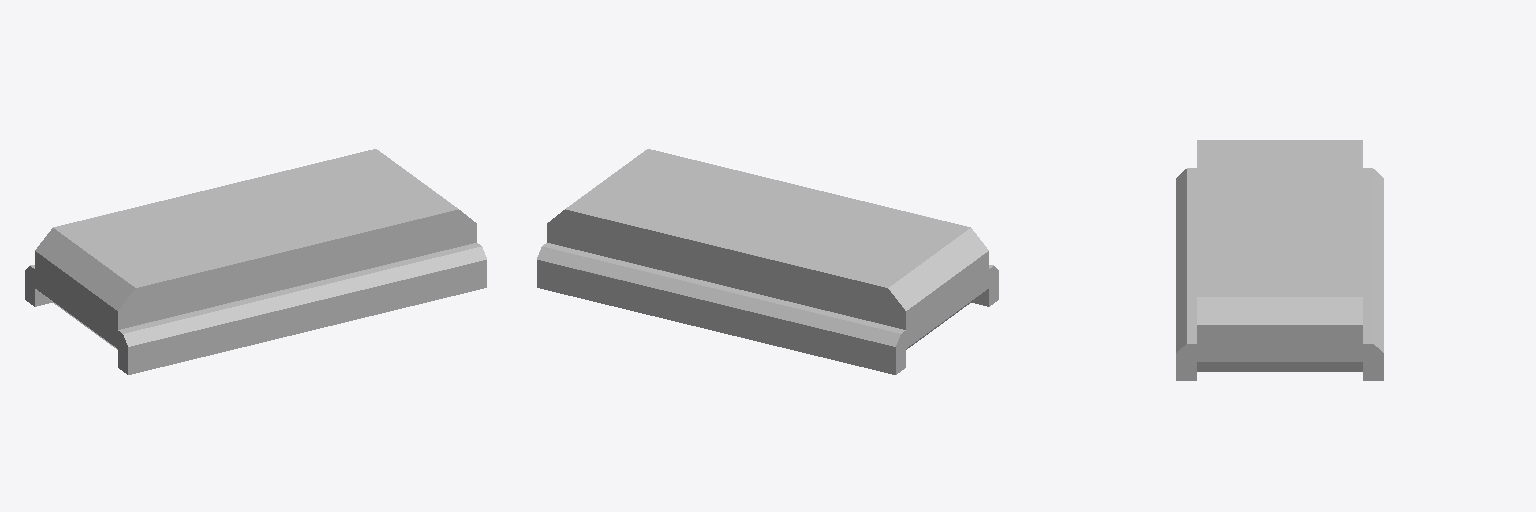
Rendered from conveyor-long-sides.obj.
3 renders of one model, left to right at view 1: azimuth 30°, elevation 25°; view 2: azimuth 150°, elevation 25°; view 3: azimuth 270°, elevation 25°, orthographic.
Parts seen in each view (by area): view 1: Group; view 2: Group; view 3: Group.
Boxes of the visible parts, x1,y1,x2,y2 form: Group: [25, 149, 486, 374]; Group: [537, 149, 998, 374]; Group: [1176, 140, 1383, 380].
Bounding box in the file's own units: 2 × 0.4 × 1.